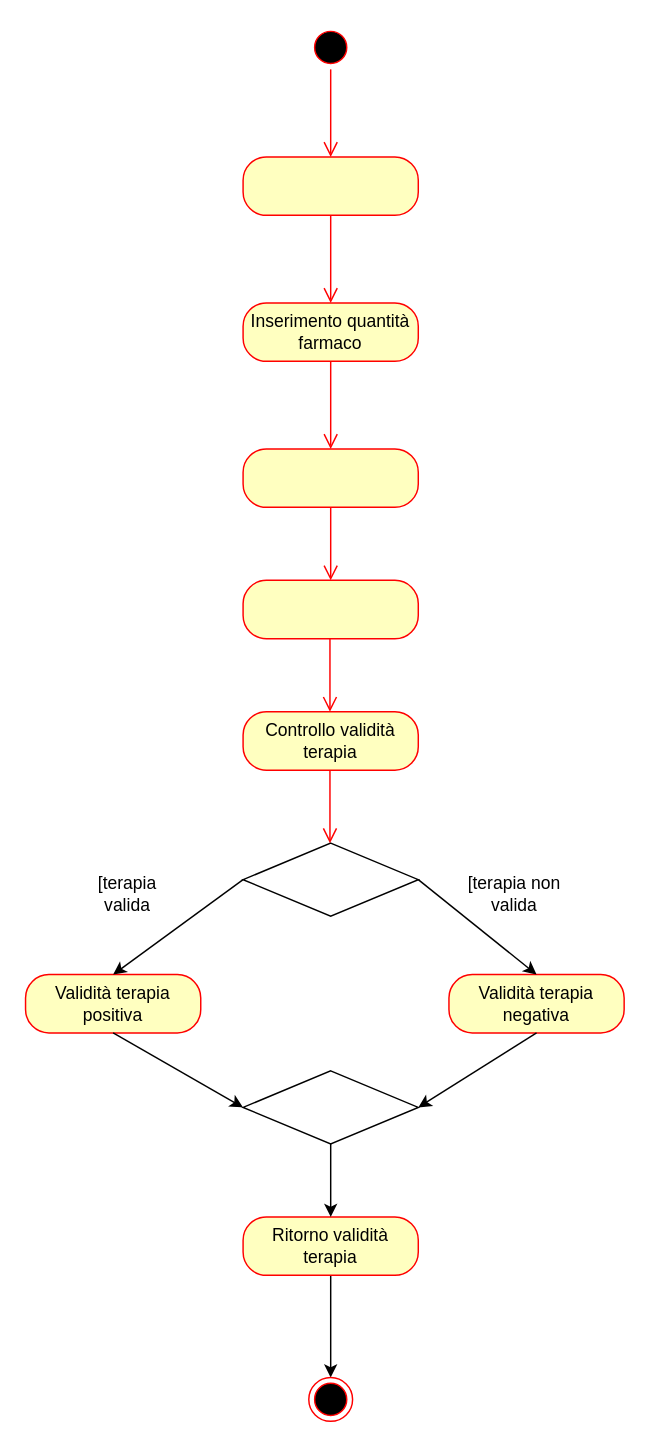
Image size: 650x1447. Some labels were removed from this diagram. The shapes that lost their labels are listed below. From the top down, each one's centre as x and y in pixels, then its label:
pixel 330 185: Inserimento nome farmaco
pixel 330 477: Inserimento data inizio
pixel 330 609: Inserimento eventuale data fine
